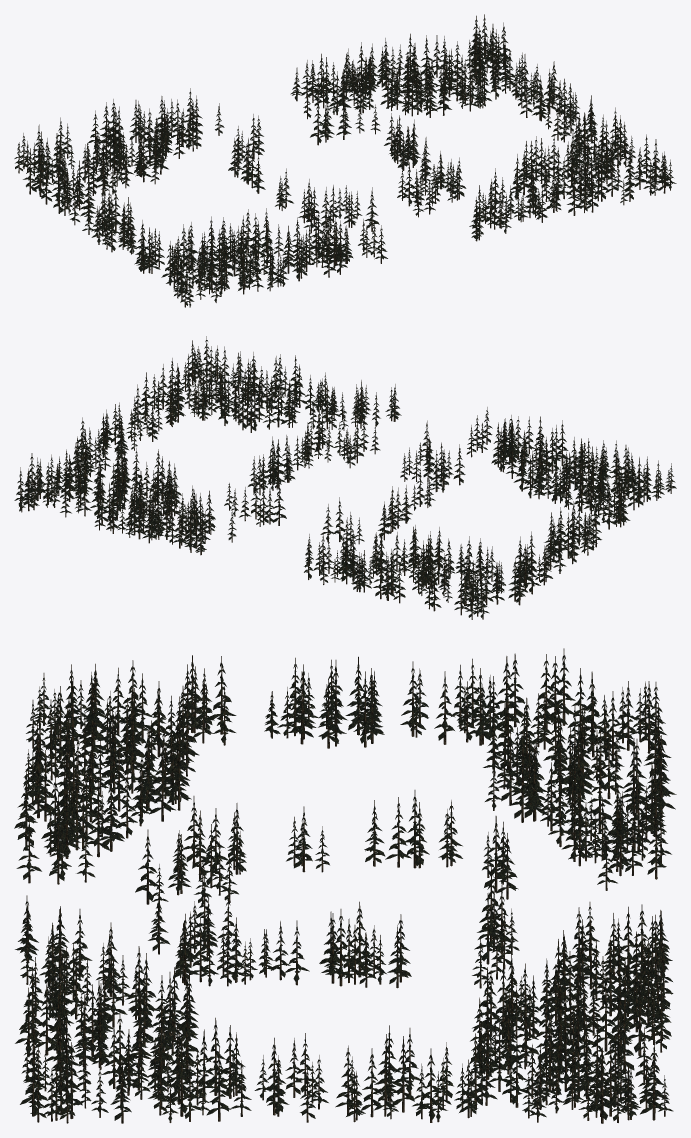
File: PL_Forest_Chunks.fbx
The picture shows the model from 3 angles, top to bottom: view 1: azimuth 30°, elevation 25°; view 2: azimuth 150°, elevation 25°; view 3: azimuth 270°, elevation 25°; orthographic projection. The views are drawn at different scales.
Parts seen in each view (by area): view 1: PL_ForestChunk_(2, 4), PL_ForestChunk_(3, 4), PL_ForestChunk_(-4, 0), PL_ForestChunk_(2, -1), PL_ForestChunk_(-3, 4), PL_ForestChunk_(-4, -1), PL_ForestChunk_(3, 0), PL_ForestChunk_(-2, -1), PL_ForestChunk_(-3, -1), PL_ForestChunk_(-4, 4), PL_ForestChunk_(3, -1), PL_ForestChunk_(-2, 4) (+36 smaller); view 2: PL_ForestChunk_(-4, 0), PL_ForestChunk_(2, 4), PL_ForestChunk_(3, 4), PL_ForestChunk_(-3, 4), PL_ForestChunk_(2, -1), PL_ForestChunk_(3, 0), PL_ForestChunk_(2, 0), PL_ForestChunk_(-3, -1), PL_ForestChunk_(-4, 4), PL_ForestChunk_(1, 5), PL_ForestChunk_(-2, -1), PL_ForestChunk_(-5, 2) (+36 smaller); view 3: PL_ForestChunk_(3, 4), PL_ForestChunk_(2, 4), PL_ForestChunk_(-3, 4), PL_ForestChunk_(-4, 0), PL_ForestChunk_(3, 0), PL_ForestChunk_(4, 4), PL_ForestChunk_(-2, -1), PL_ForestChunk_(-5, 3), PL_ForestChunk_(-2, 4), PL_ForestChunk_(2, -1), PL_ForestChunk_(-4, -1), PL_ForestChunk_(-3, 0) (+40 smaller).
Part boxes in pixels (x1,y1,x2,y2): PL_ForestChunk_(2, 4): (360,43,438,113); PL_ForestChunk_(3, 4): (421,35,499,101); PL_ForestChunk_(-4, 0): (175,216,247,277); PL_ForestChunk_(2, -1): (524,156,591,222); PL_ForestChunk_(-3, 4): (97,108,167,177); PL_ForestChunk_(-4, -1): (193,237,273,296); PL_ForestChunk_(3, 0): (549,126,617,184); PL_ForestChunk_(-2, -1): (300,211,371,277); PL_ForestChunk_(-3, -1): (249,225,313,287); PL_ForestChunk_(-4, 4): (44,132,125,194); PL_ForestChunk_(3, -1): (576,150,636,212); PL_ForestChunk_(-2, 4): (144,95,202,158); PL_ForestChunk_(-4, 0): (547,448,611,514); PL_ForestChunk_(2, 4): (102,470,180,532); PL_ForestChunk_(3, 4): (60,451,130,516); PL_ForestChunk_(-3, 4): (372,526,443,595); PL_ForestChunk_(2, -1): (255,355,330,419); PL_ForestChunk_(3, 0): (190,364,240,425); PL_ForestChunk_(2, 0): (233,380,297,432); PL_ForestChunk_(-3, -1): (533,420,591,484); PL_ForestChunk_(-4, 4): (426,536,504,605); PL_ForestChunk_(1, 5): (142,498,204,552); PL_ForestChunk_(-2, -1): (477,415,545,472); PL_ForestChunk_(-5, 2): (543,507,593,569); PL_ForestChunk_(3, 4): (514,985,634,1099); PL_ForestChunk_(2, 4): (514,939,635,1055); PL_ForestChunk_(-3, 4): (516,720,624,831); PL_ForestChunk_(-4, 0): (102,681,199,792); PL_ForestChunk_(3, 0): (102,993,199,1099); PL_ForestChunk_(4, 4): (522,1034,633,1123); PL_ForestChunk_(-2, -1): (14,770,112,876); PL_ForestChunk_(-5, 3): (414,653,525,745); PL_ForestChunk_(-2, 4): (548,767,632,876); PL_ForestChunk_(2, -1): (19,950,114,1055); PL_ForestChunk_(-4, -1): (23,678,116,791); PL_ForestChunk_(-3, 0): (105,730,191,826).
Size of the model in its own units: 22378 by 2008 by 15317.
2 materials, 2 textured.
